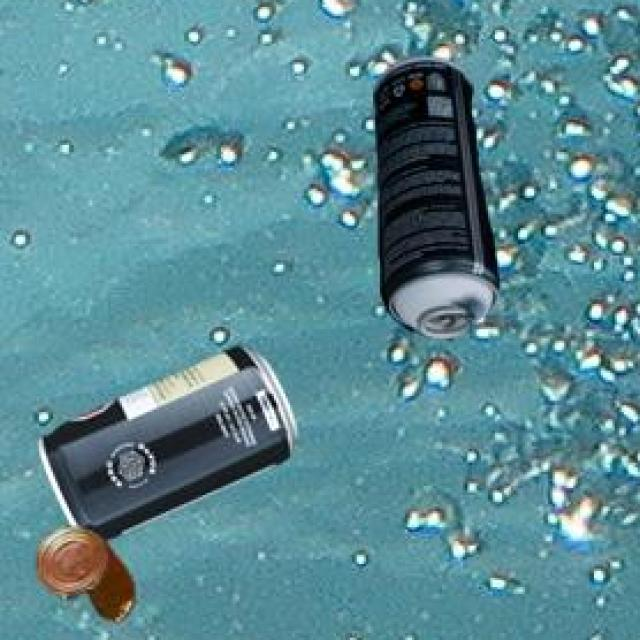logam: (36, 349, 294, 542), (369, 61, 496, 344), (33, 531, 130, 623)
